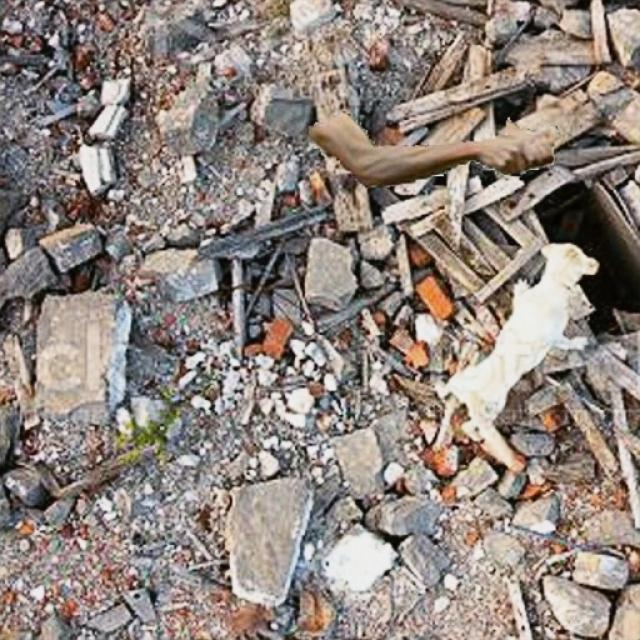Person in Rubble: (308, 112, 558, 186)
